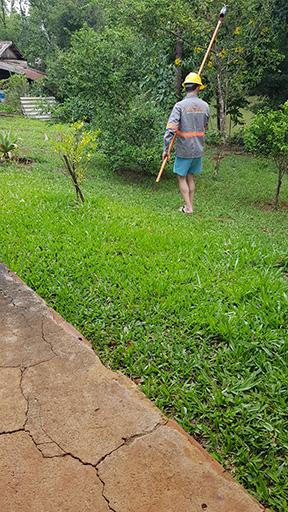Capacete: (180, 71, 205, 93)
Detector_Tensao_Contato: (215, 2, 232, 22)
Vara_Manobra: (156, 21, 222, 182)
